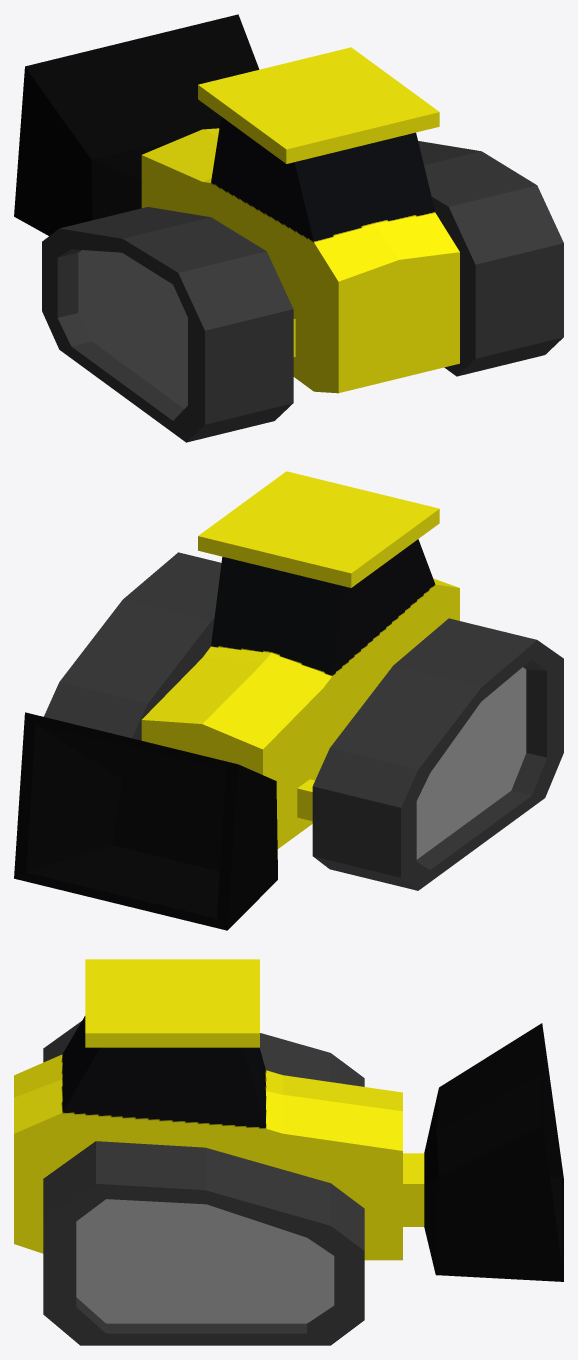
Rendered from Dozer.glb.
3 renders of one model, top to bottom at view 1: azimuth 30°, elevation 25°; view 2: azimuth 150°, elevation 25°; view 3: azimuth 270°, elevation 25°, orthographic.
Parts seen in each view (by area): view 1: Dozer; view 2: Dozer; view 3: Dozer.
Part boxes in pixels (x1=…): Dozer: x1=14, y1=14, x2=563, y2=442; Dozer: x1=14, y1=471, x2=563, y2=930; Dozer: x1=14, y1=959, x2=563, y2=1345.
Size of what is drawn, in the model's own units: 3.9 by 2.76 by 5.24.
1 material, 1 textured.
